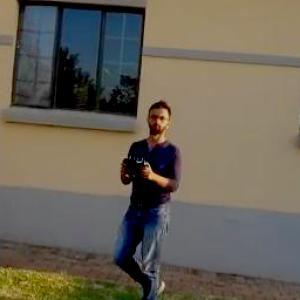follow: (106, 95, 183, 299)
